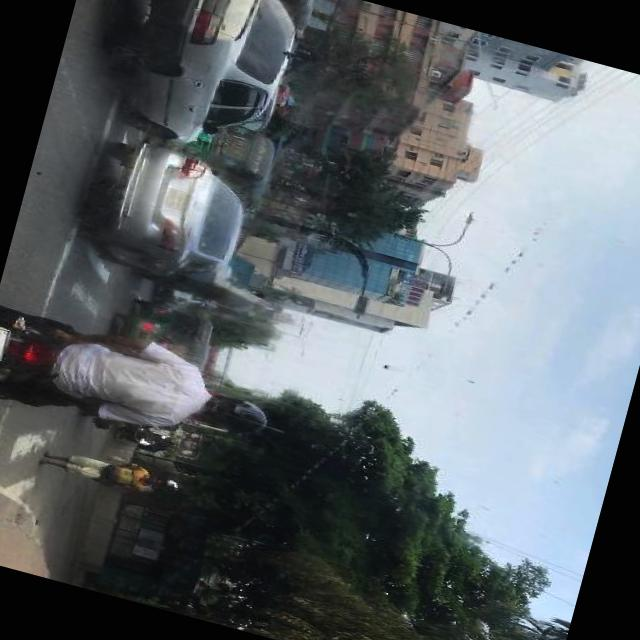car: (89, 0, 303, 128), (74, 136, 212, 282)
motorcycle: (0, 304, 82, 406), (200, 120, 284, 198), (104, 309, 212, 368), (126, 297, 217, 337)
